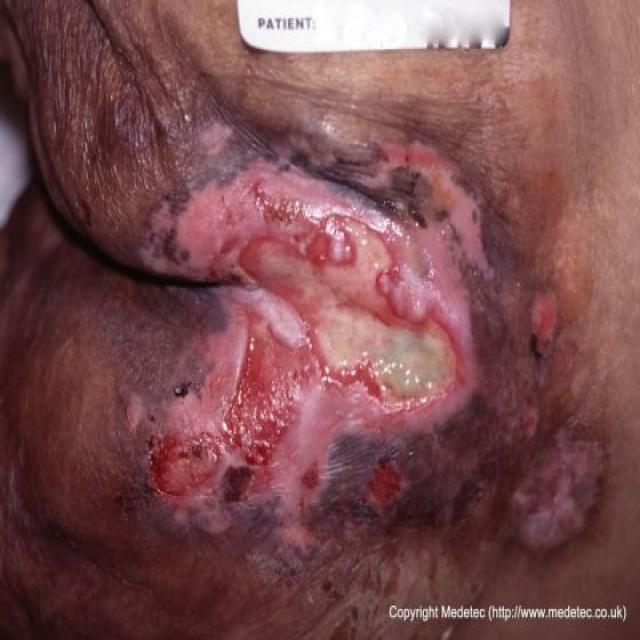Unstageable: (242, 217, 459, 413)
stage-3: (221, 316, 319, 492), (153, 434, 221, 502), (371, 461, 407, 511)
